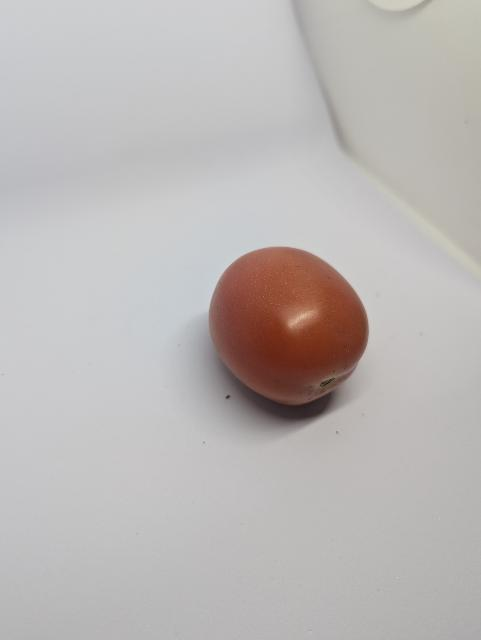red: (207, 244, 376, 413)
